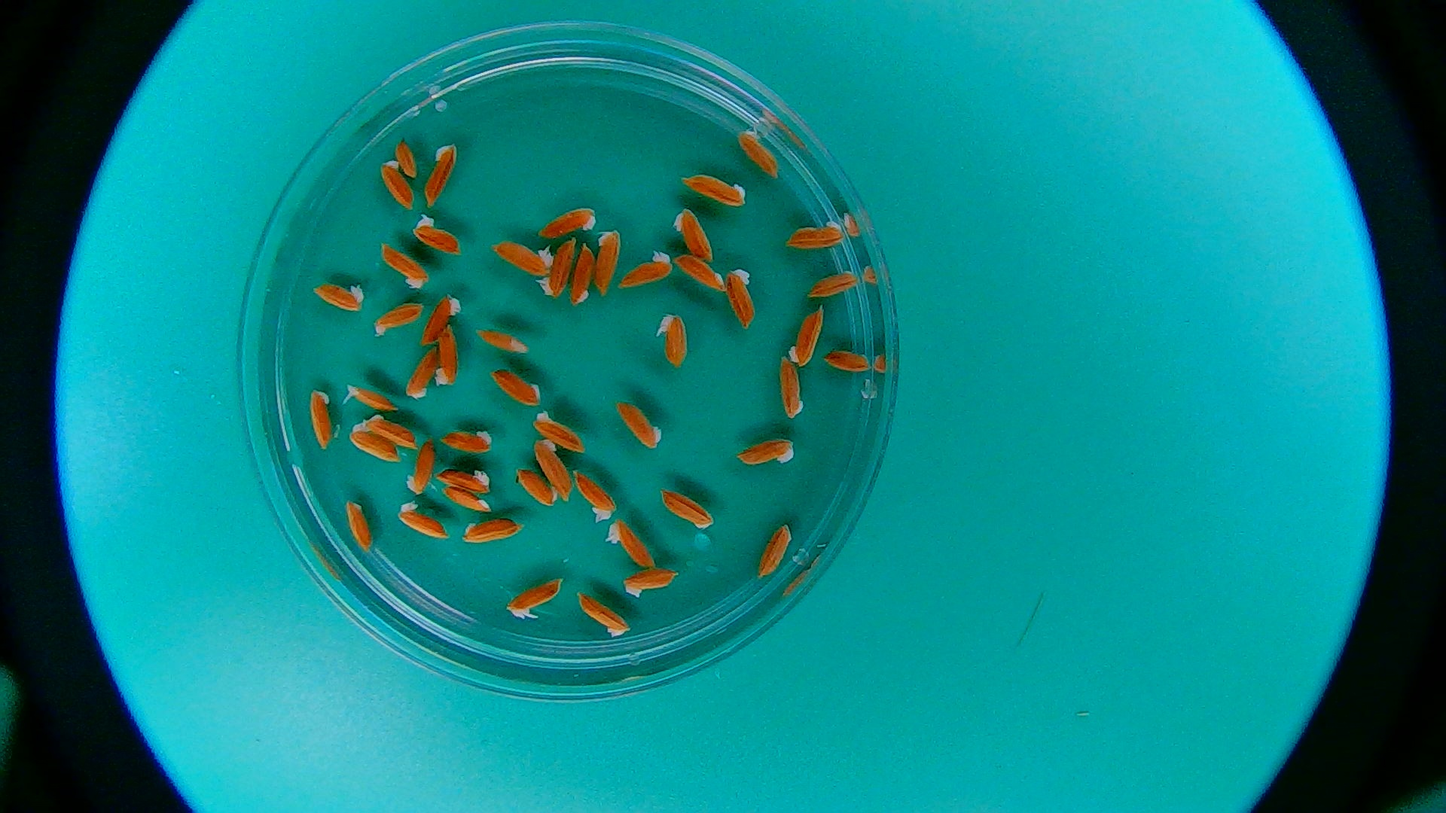no: (608, 398, 678, 458), (667, 206, 718, 266), (672, 168, 748, 208), (654, 484, 714, 533), (532, 436, 575, 503), (575, 590, 633, 639), (377, 237, 429, 291), (736, 120, 782, 181), (785, 304, 826, 372), (490, 235, 556, 277), (606, 518, 657, 570), (753, 520, 796, 581), (569, 468, 617, 522), (416, 291, 463, 346), (780, 214, 846, 253), (343, 420, 400, 465), (359, 410, 423, 450), (723, 262, 760, 331), (529, 410, 587, 454), (732, 435, 800, 472), (615, 250, 673, 293), (673, 250, 728, 295), (301, 386, 336, 452), (309, 279, 368, 318), (490, 366, 543, 409), (430, 460, 493, 496), (818, 338, 871, 380), (392, 501, 449, 540), (423, 144, 456, 211), (455, 515, 523, 547), (535, 206, 599, 240), (800, 267, 862, 302), (568, 241, 600, 308), (436, 425, 497, 460), (592, 225, 622, 296), (512, 465, 560, 509), (775, 355, 805, 425), (372, 301, 427, 339), (621, 565, 684, 598), (403, 438, 436, 500), (380, 157, 416, 212), (410, 216, 462, 253), (404, 345, 438, 400), (432, 320, 459, 388), (471, 326, 532, 355), (345, 494, 376, 551), (440, 483, 493, 515), (395, 136, 418, 182)
yes: (539, 236, 576, 297), (506, 579, 561, 617), (343, 381, 401, 413), (659, 309, 691, 365)
